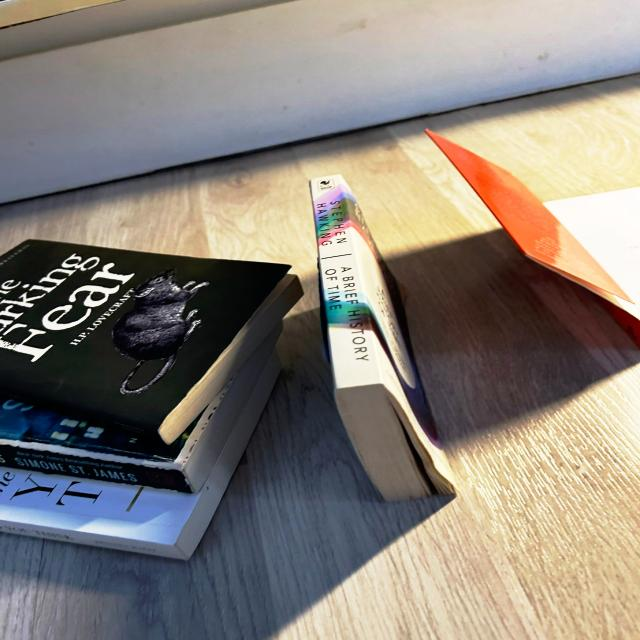Book: (2, 240, 286, 449), (0, 359, 278, 560), (310, 175, 455, 500), (427, 130, 639, 346), (0, 332, 272, 464), (155, 276, 305, 449), (182, 325, 279, 496), (2, 443, 195, 496)
